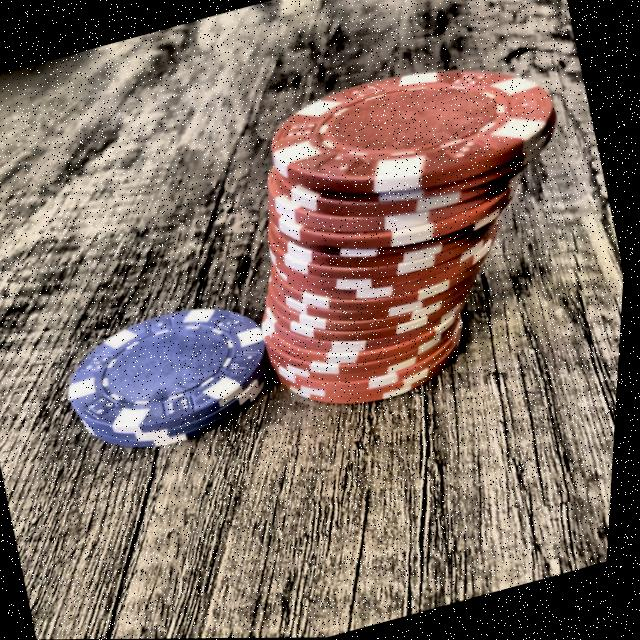Chip: (203, 33, 625, 430), (53, 286, 294, 470)
